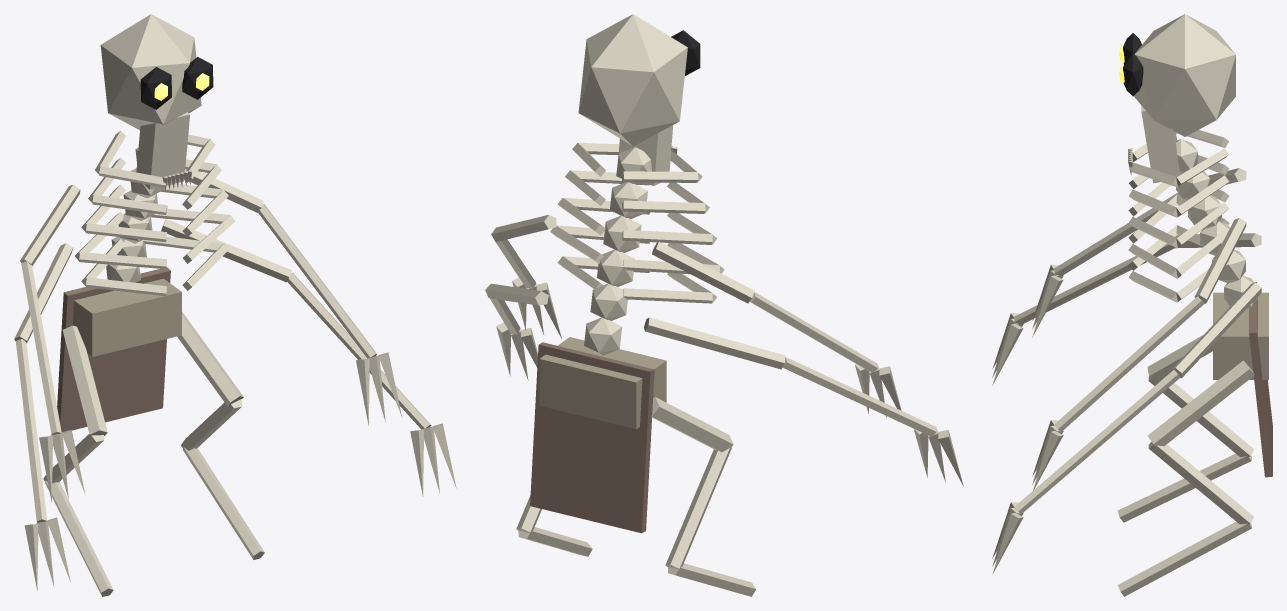
File: wandering_bones.glb
3 renders of one model, left to right at view 1: azimuth 30°, elevation 25°; view 2: azimuth 150°, elevation 25°; view 3: azimuth 270°, elevation 25°, orthographic. The views are drawn at different scales.
Parts seen in each view (by area): view 1: wandering_bones; view 2: wandering_bones; view 3: wandering_bones.
Boxes of the visible parts, bbox=[...] form: wandering_bones: bbox=[14, 14, 456, 596]; wandering_bones: bbox=[485, 14, 963, 596]; wandering_bones: bbox=[992, 14, 1272, 596].
Bounding box in the file's own units: 1.22 × 1.5 × 0.7031.
